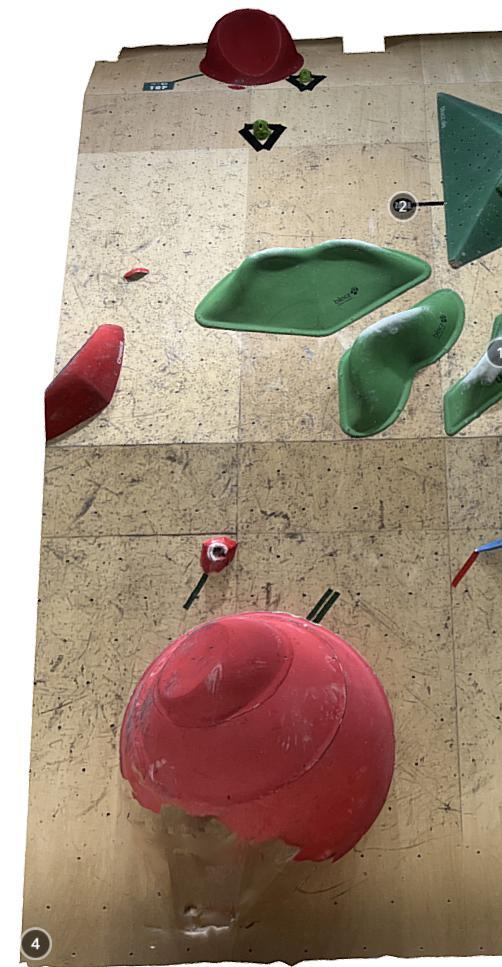hold: (116, 612, 395, 865), (195, 238, 432, 336), (339, 288, 464, 437), (45, 325, 124, 441), (199, 9, 305, 85), (444, 314, 502, 437), (238, 119, 287, 152), (200, 537, 237, 573), (285, 69, 327, 93), (475, 538, 502, 552), (123, 267, 149, 279), (496, 177, 502, 197), (227, 85, 246, 90)
volume: (436, 92, 502, 271)
